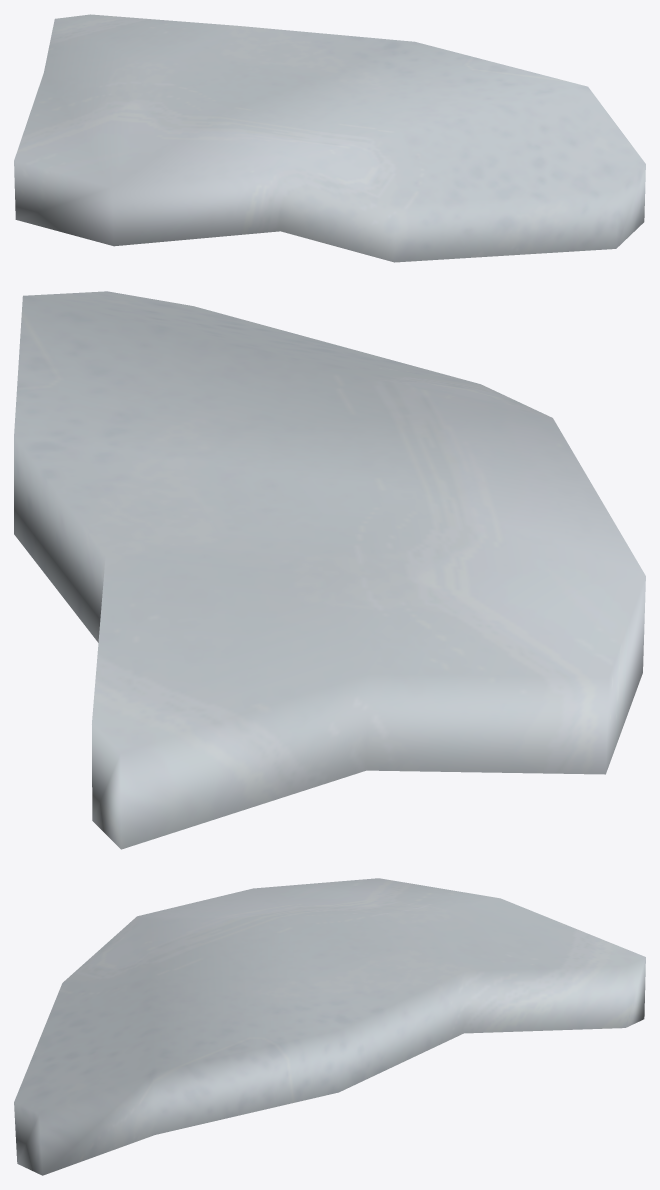
Rendered from Rock_15_Snow.fbx.
3 views of the same model, one above another, from view 1: azimuth 30°, elevation 25°; view 2: azimuth 150°, elevation 25°; view 3: azimuth 270°, elevation 25° (orthographic). The views are drawn at different scales.
Visible parts, largest first — view 1: Rock_15_Snow; view 2: Rock_15_Snow; view 3: Rock_15_Snow.
Part boxes in pixels (box(x1,y1,x2,y2)): Rock_15_Snow: box(14, 14, 645, 262); Rock_15_Snow: box(14, 291, 645, 849); Rock_15_Snow: box(14, 878, 645, 1175).
Size of the model in its own units: 222 by 47.79 by 249.
